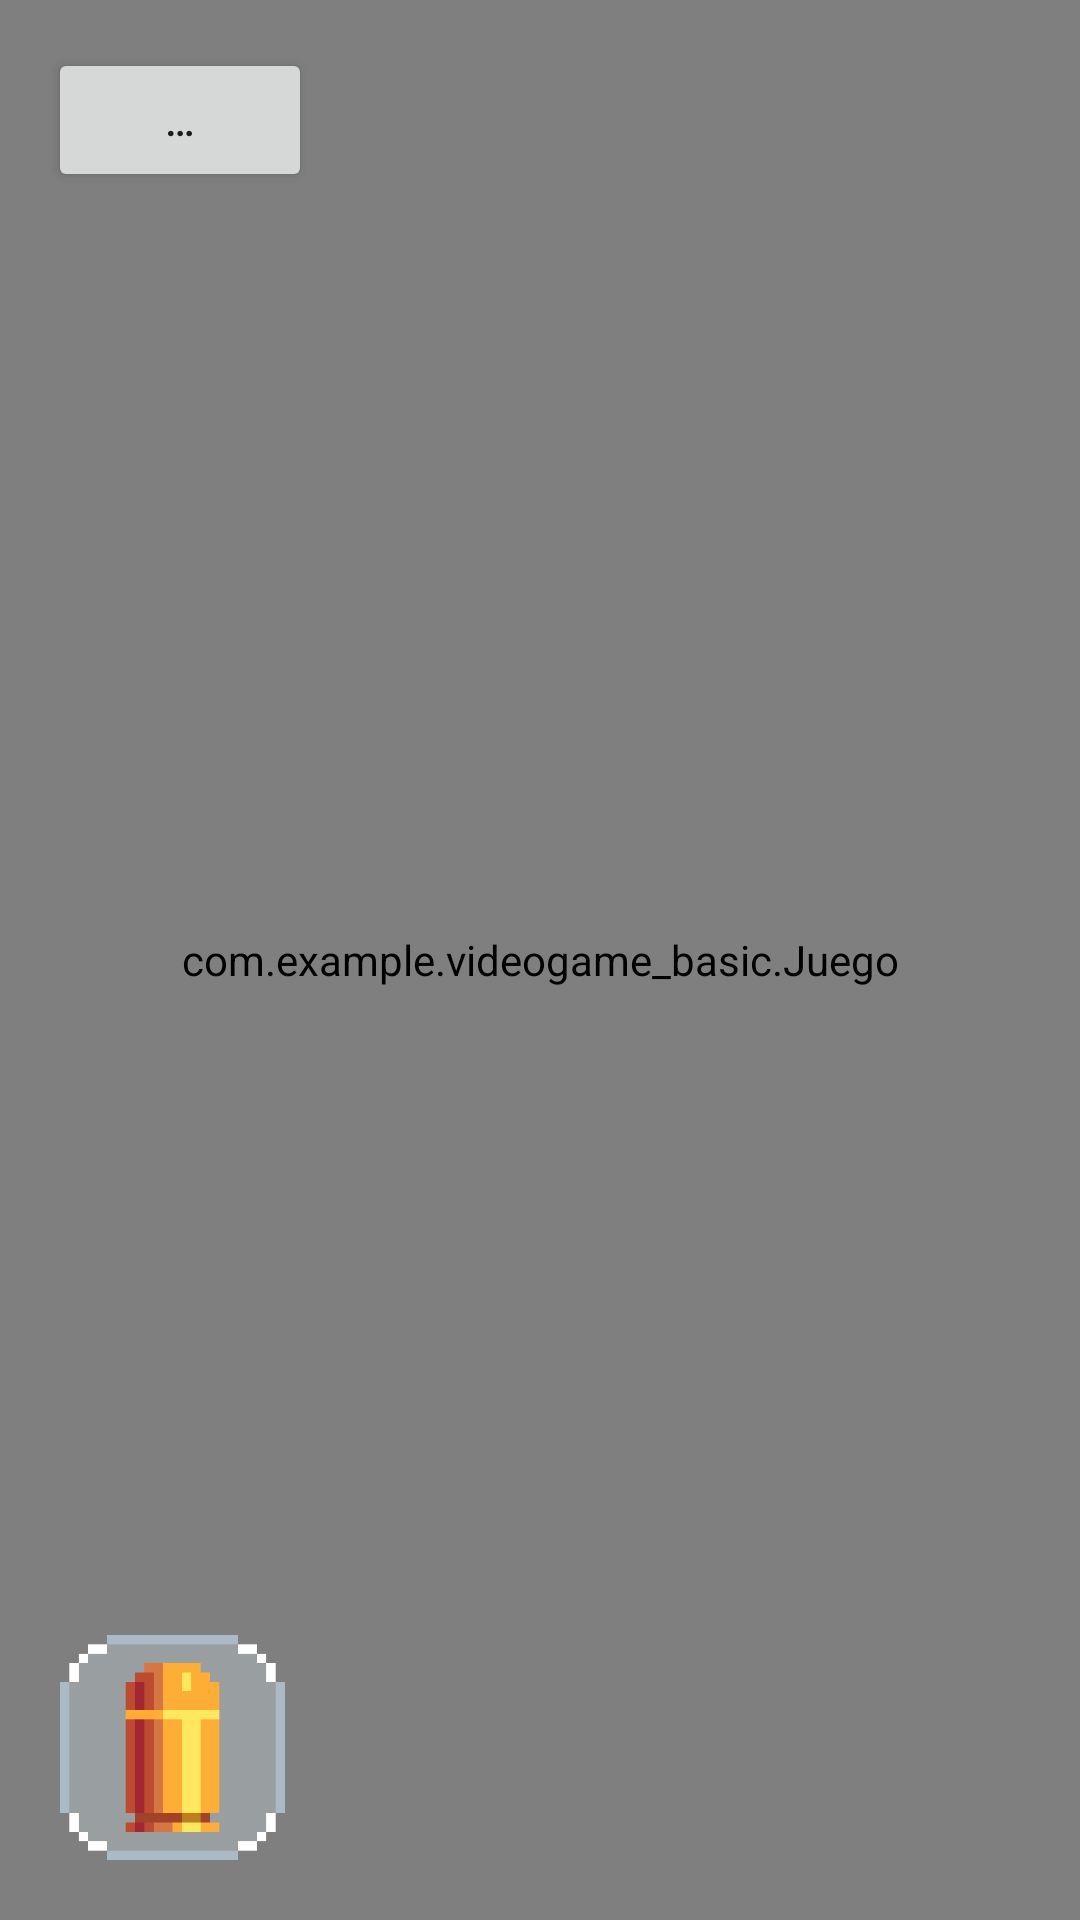

Icon click points for this 1080*1920 phone screenshot, format point (x, y):
disparar: point (172, 1747)
